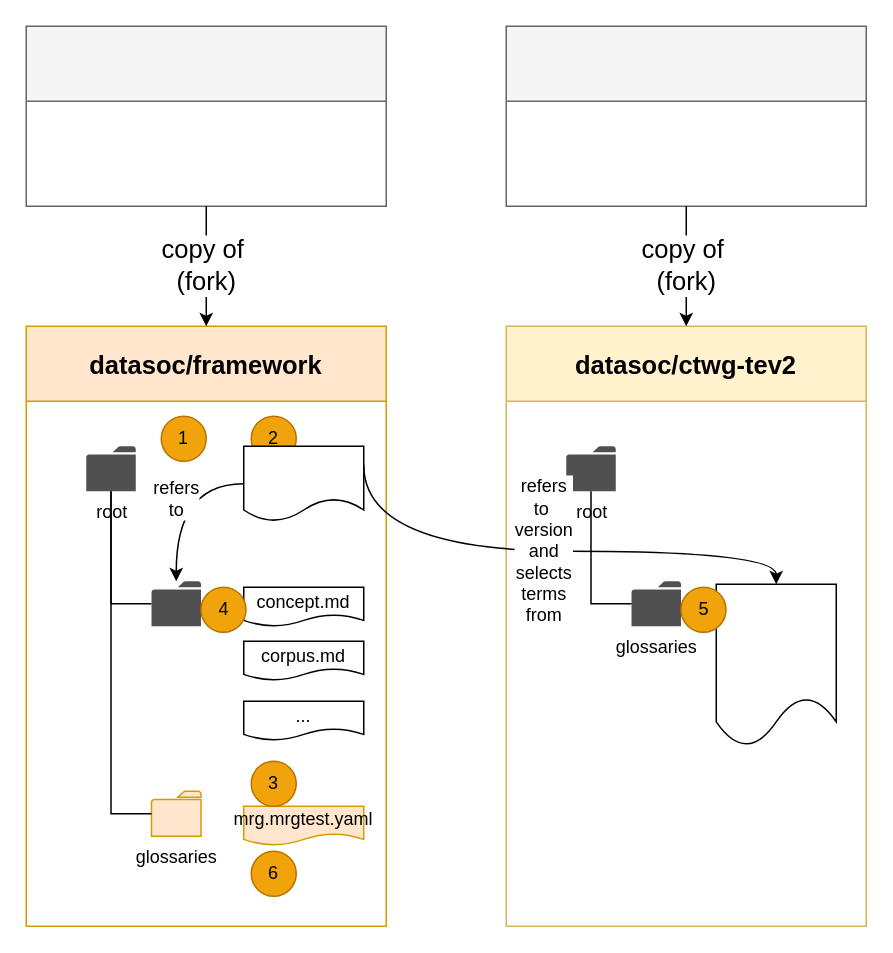
Some shapes in this 893 by 953 pixel diagram are drawn without their labels. The centre of each missing label's shape, as x and y in pixels:
essif-lab/framework: the point at 205,115
MRG term1 term2 ...: the point at 775,664
Scope Admin File (SAF): the point at 303,483
terms: the point at 175,603
toip/ctwg-tev2: the point at 685,115
